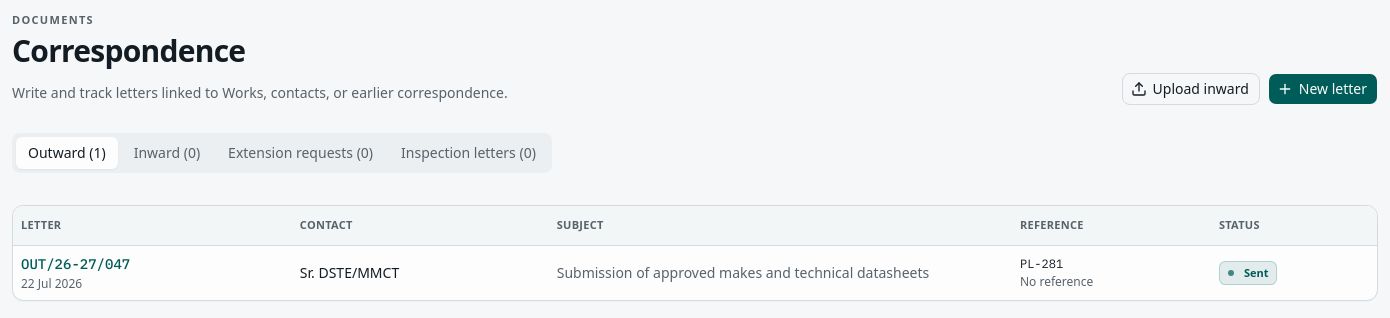
Test case: the correspondence register › shows the extension-until column on the extensions tab only
Expected: the button "OUT/26-27/047" is shown, x1=21 y1=254 x2=130 y2=274
Expected: the column heading "Extension until" is not shown
Step 1. Click the button "Extension requests (0)" → coordinates (301, 152), box x1=216 y1=136 x2=385 y2=168
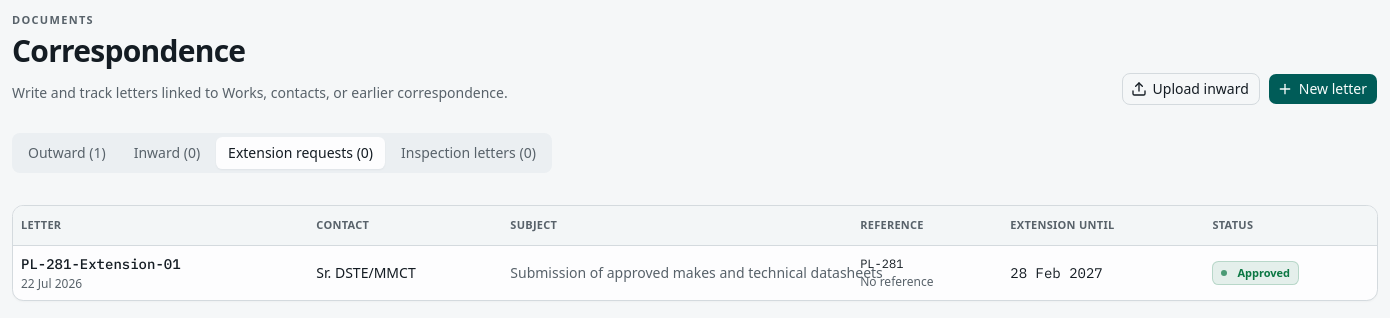
Result: the column heading "Extension until" is shown at x1=1002 y1=206 x2=1204 y2=246
Result: the text "28 Feb 2027" is shown at x1=1002 y1=246 x2=1204 y2=300
